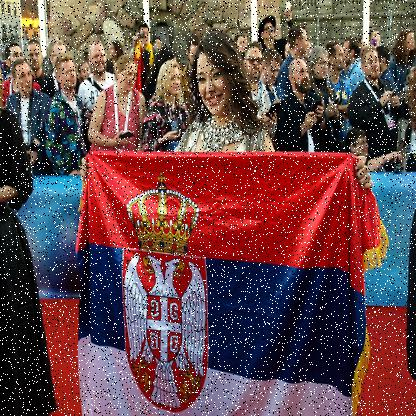rs: (76, 152, 390, 416)
